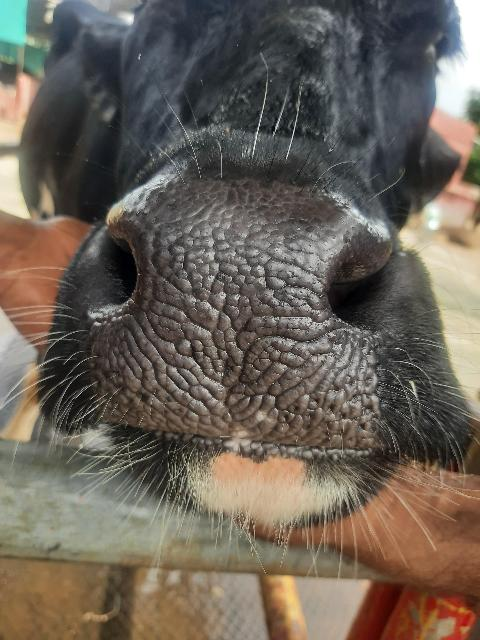Muzzle: (107, 192, 377, 446)
